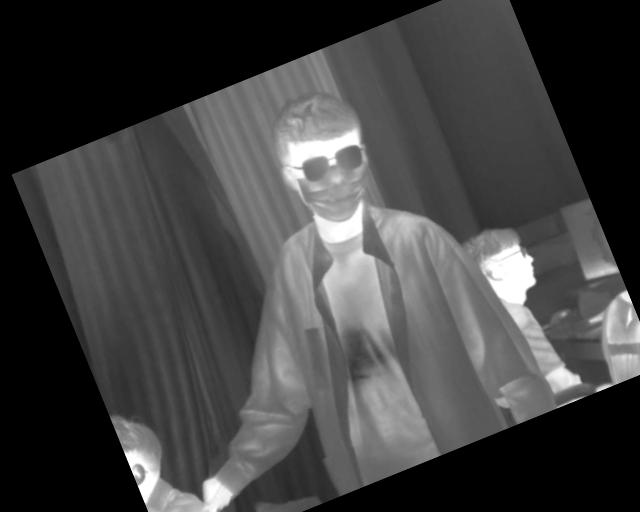face: (244, 213, 351, 339), (561, 282, 631, 417)
